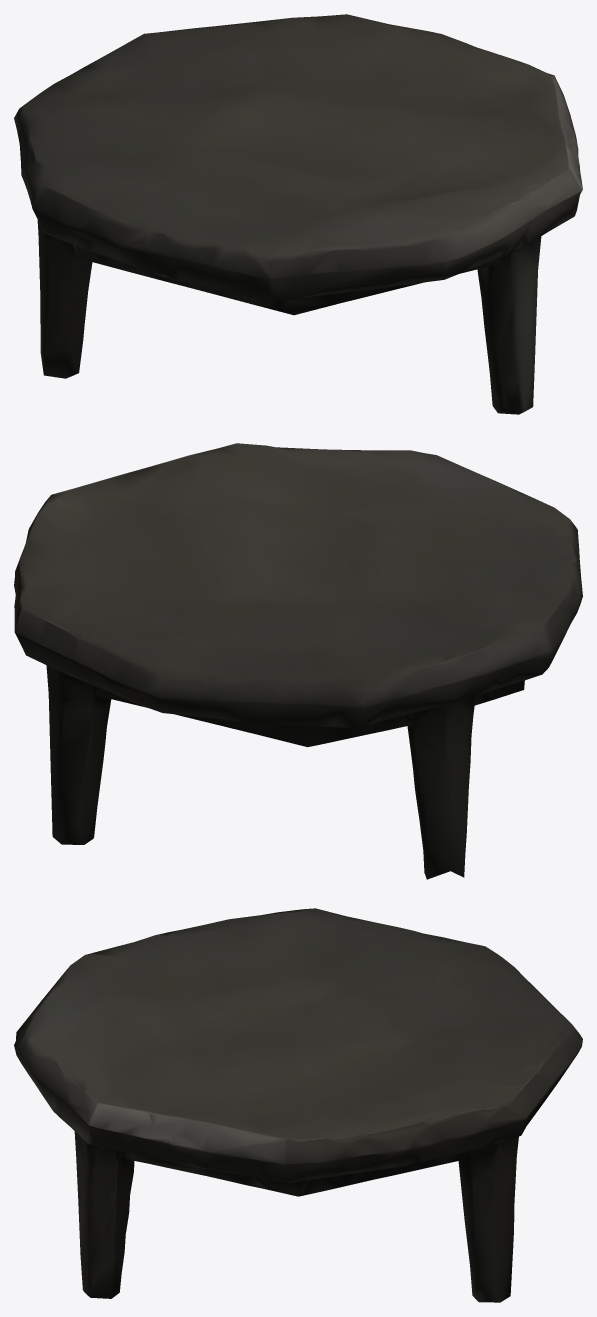
Rendered from wooden+round+table+3d+model.glb.
3 views of the same model, one above another, from view 1: azimuth 30°, elevation 25°; view 2: azimuth 150°, elevation 25°; view 3: azimuth 270°, elevation 25° (orthographic). The views are drawn at different scales.
Visible parts, largest first — view 1: tripo_node_47de3dbc-c8e9-49de-8308-9f62be68a979; view 2: tripo_node_47de3dbc-c8e9-49de-8308-9f62be68a979; view 3: tripo_node_47de3dbc-c8e9-49de-8308-9f62be68a979.
Part boxes in pixels (x1,y1,x2,y2): tripo_node_47de3dbc-c8e9-49de-8308-9f62be68a979: [14, 14, 582, 414]; tripo_node_47de3dbc-c8e9-49de-8308-9f62be68a979: [14, 443, 582, 879]; tripo_node_47de3dbc-c8e9-49de-8308-9f62be68a979: [14, 908, 582, 1302].
Bounding box in the file's own units: 0.994 × 0.4217 × 1.
Materials: 1 (1 with a texture image).
